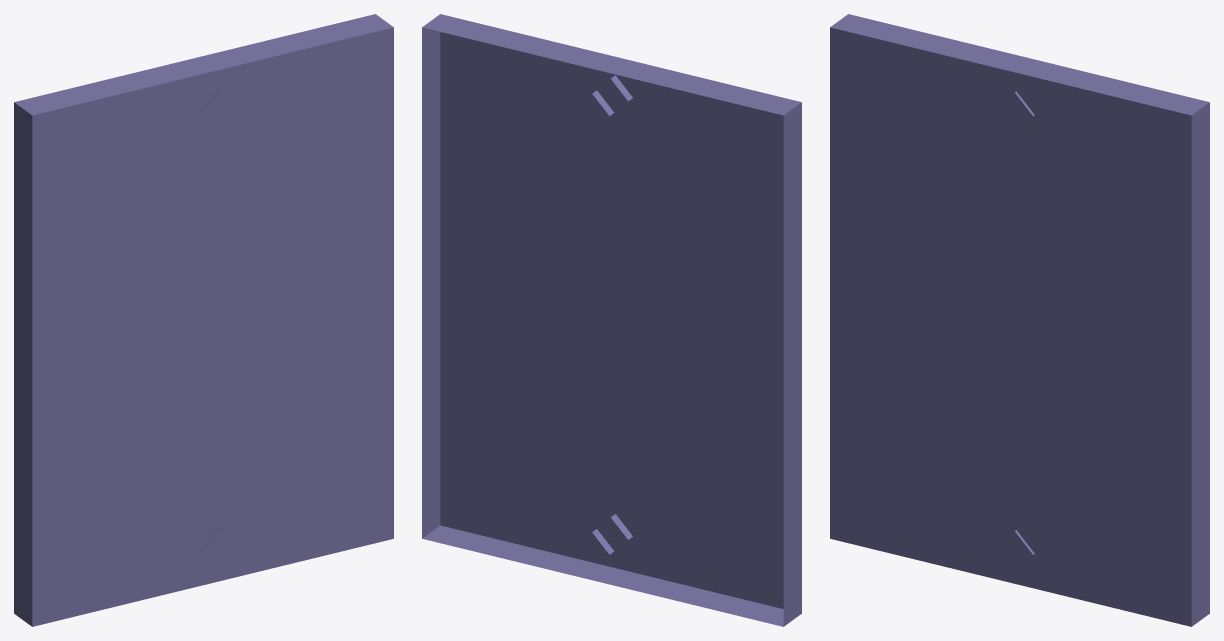
File: bocadeEnchufe.fbx
The picture shows the model from 3 angles, left to right: view 1: azimuth 30°, elevation 25°; view 2: azimuth 150°, elevation 25°; view 3: azimuth 330°, elevation 25°; orthographic projection.
Parts seen in each view (by area): view 1: BocadeEnchufe; view 2: BocadeEnchufe; view 3: BocadeEnchufe.
Boxes of the visible parts, <box> form: BocadeEnchufe: <box>14,14,393,626</box>; BocadeEnchufe: <box>422,14,801,626</box>; BocadeEnchufe: <box>830,14,1209,626</box>.
Bounding box in the file's own units: 0.1336 × 0.1806 × 0.0128.
